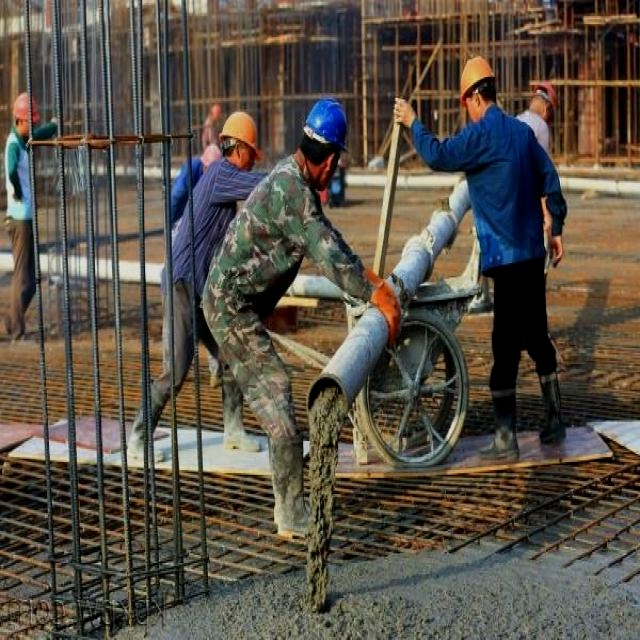Con_Casco: (298, 96, 347, 183), (458, 52, 498, 121)
